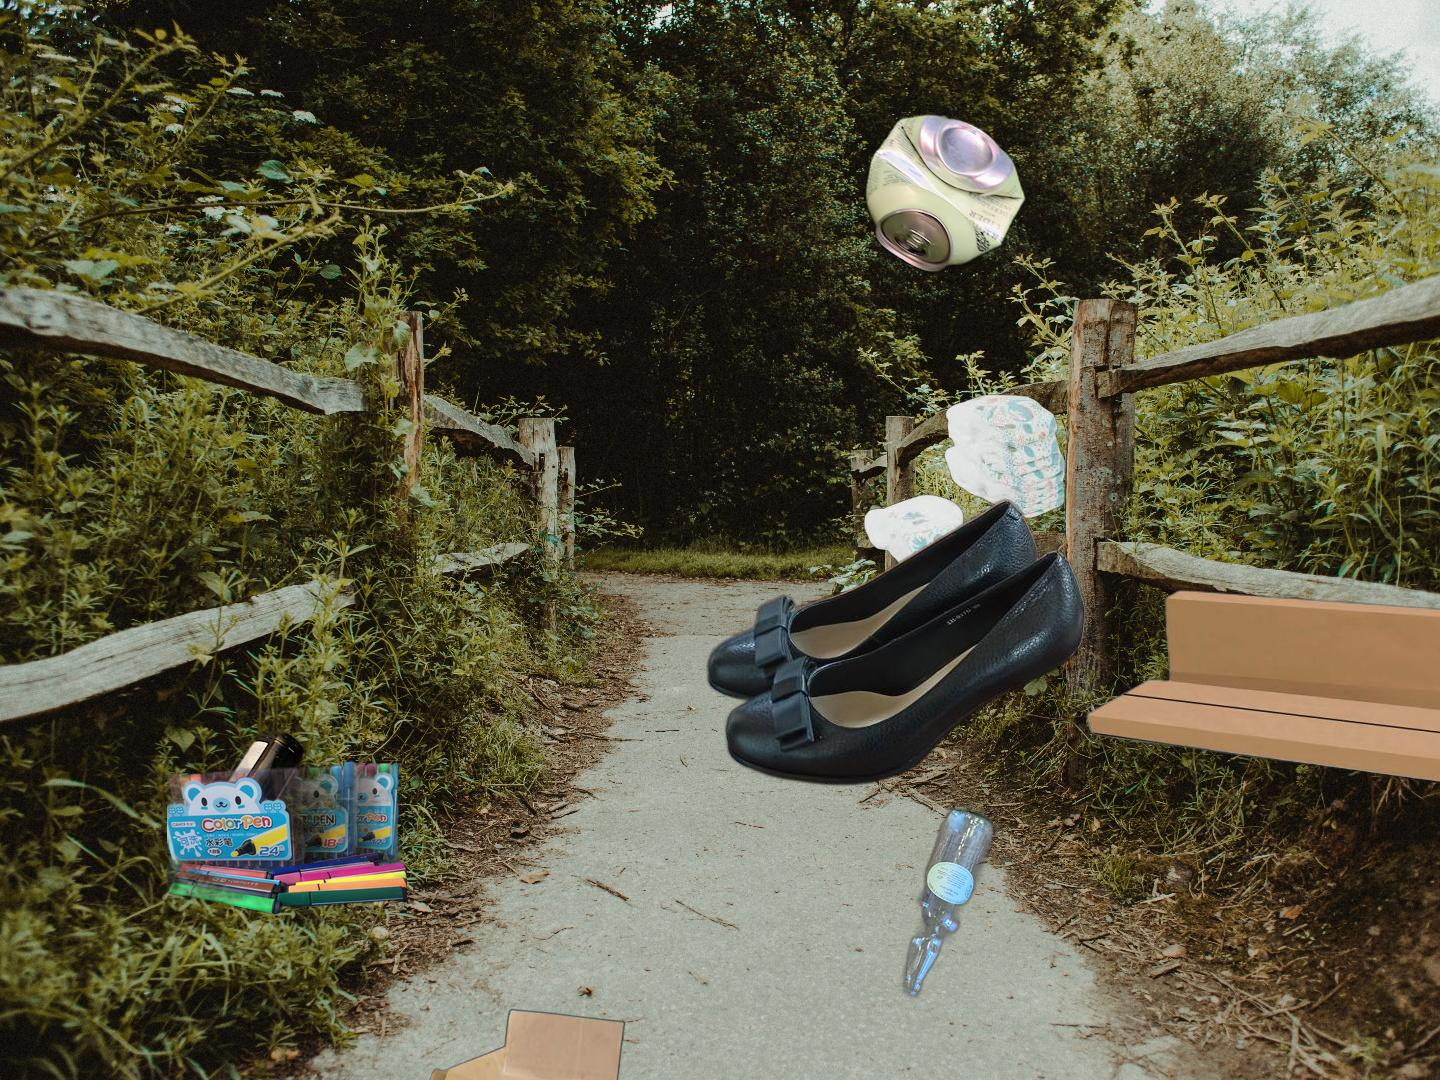glass: (896, 803, 1000, 1002), (188, 725, 310, 889)
metal-cans: (862, 108, 1031, 280)
paper-bag: (407, 1006, 627, 1080)
penholder: (167, 737, 407, 917)
shoes: (704, 496, 1090, 788)
trash: (861, 393, 1068, 587)
trashbox-cardboard: (1082, 587, 1440, 795)
